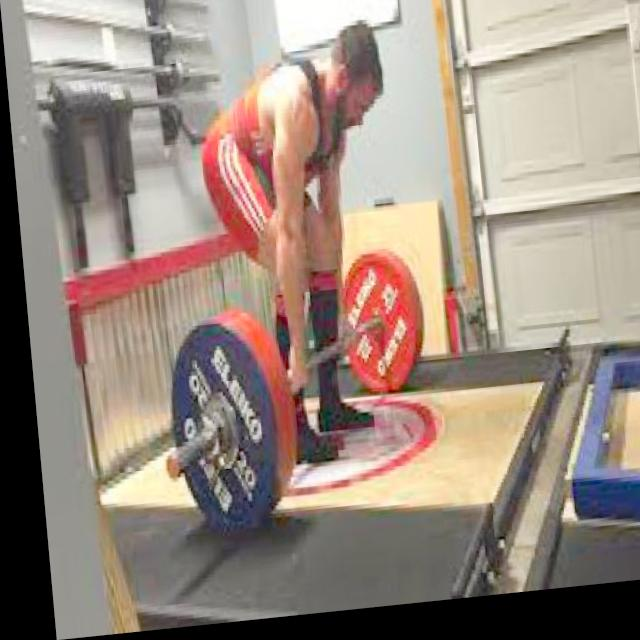barbell: (147, 322, 285, 552)
